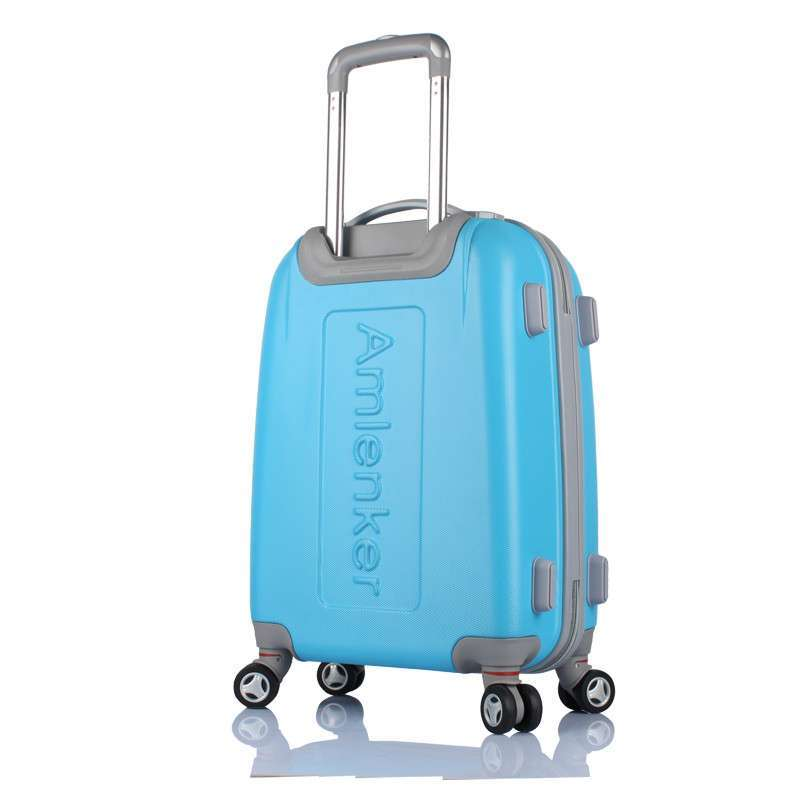luggage: (234, 32, 615, 736)
